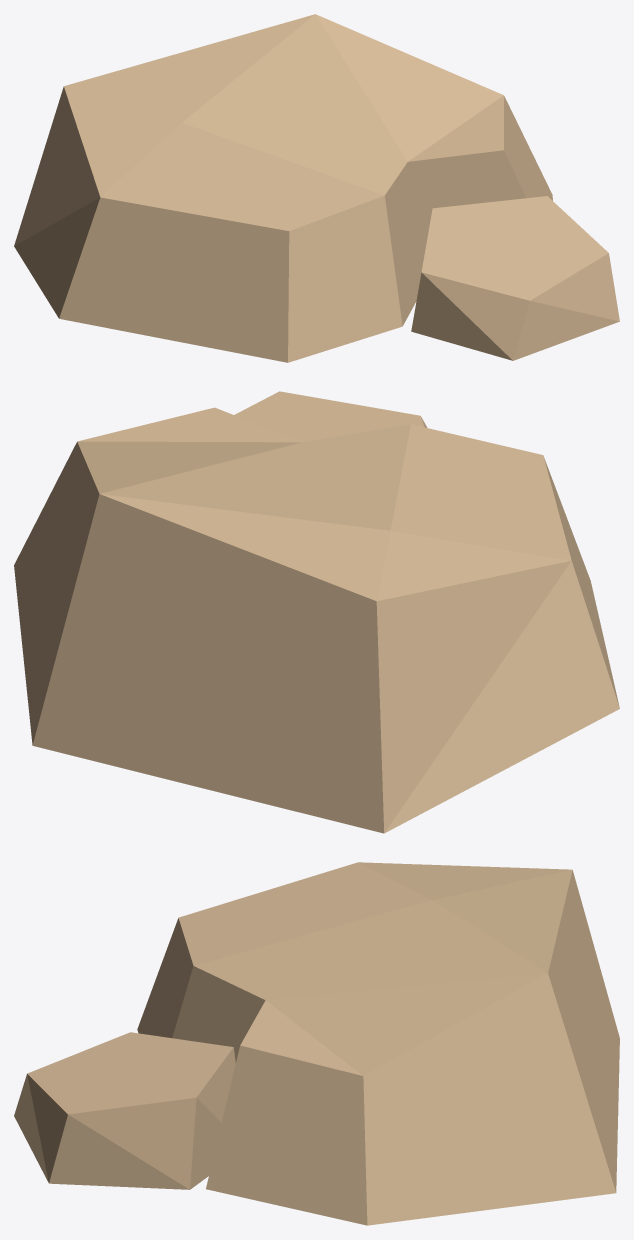
Rendered from stone-flat.glb.
3 views of the same model, one above another, from view 1: azimuth 30°, elevation 25°; view 2: azimuth 150°, elevation 25°; view 3: azimuth 270°, elevation 25° (orthographic). The views are drawn at different scales.
Visible parts, largest first — view 1: stone-flat; view 2: stone-flat; view 3: stone-flat.
Part boxes in pixels (left/top/right/bottom): stone-flat: left=14, top=14, right=619, bottom=362; stone-flat: left=14, top=391, right=619, bottom=833; stone-flat: left=14, top=862, right=619, bottom=1225.
Size of the model in its own units: 2.32 by 0.8823 by 2.26.
1 material, 1 textured.
